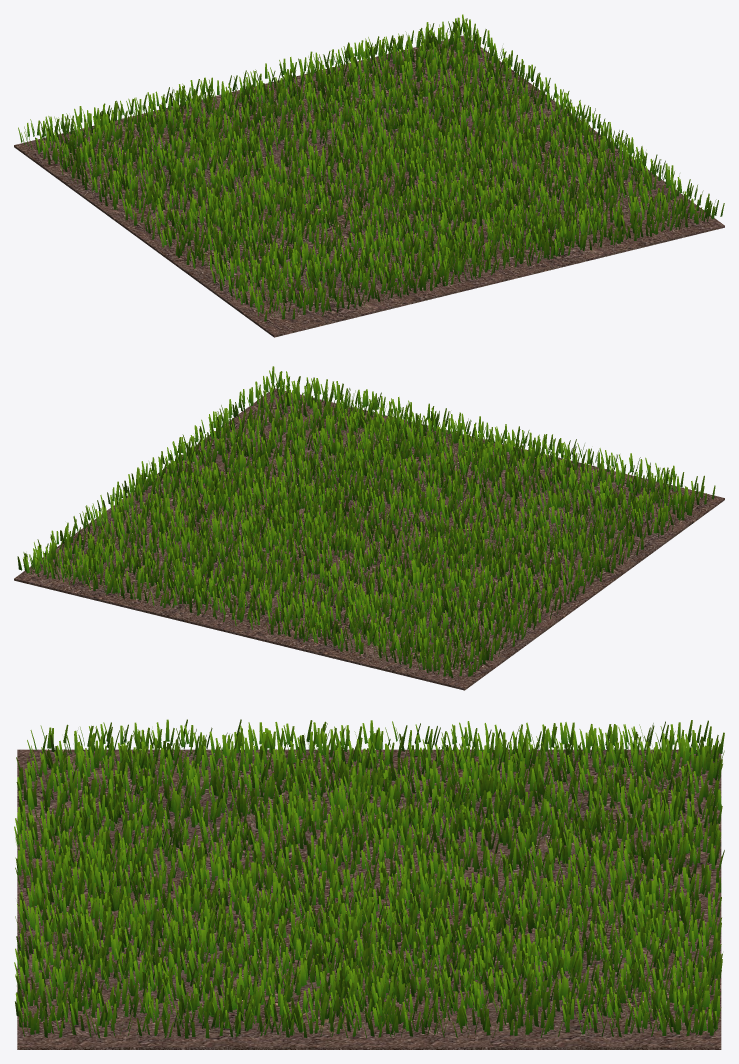
The model's file is grass_lod.glb.
3 renders of one model, top to bottom at view 1: azimuth 30°, elevation 25°; view 2: azimuth 150°, elevation 25°; view 3: azimuth 270°, elevation 25°, orthographic. The views are drawn at different scales.
Parts seen in each view (by area): view 1: Plane.10002; view 2: Plane.10002; view 3: Plane.10002.
Boxes of the visible parts, box(x1,y1,x2,y2) form: Plane.10002: box(14, 35, 724, 337); Plane.10002: box(14, 388, 724, 690); Plane.10002: box(17, 749, 721, 1049).
Bounding box in the file's own units: 203 × 10.38 × 202.
2 materials, 2 textured.
